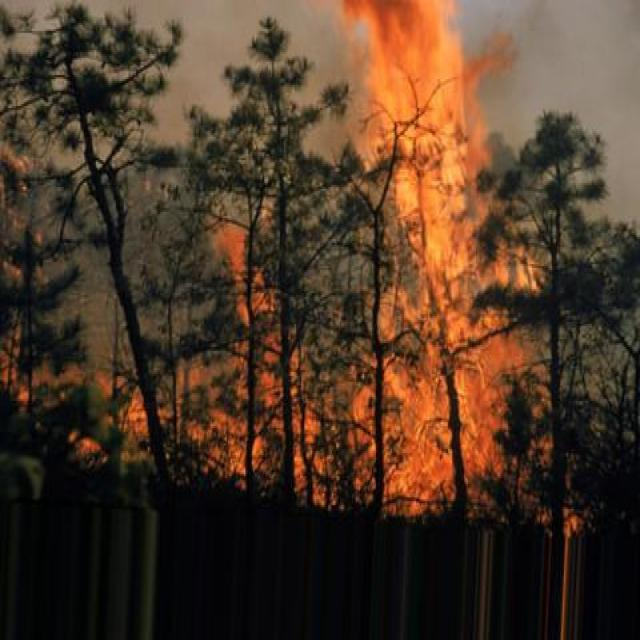fire: (340, 2, 556, 512), (182, 221, 328, 488)
